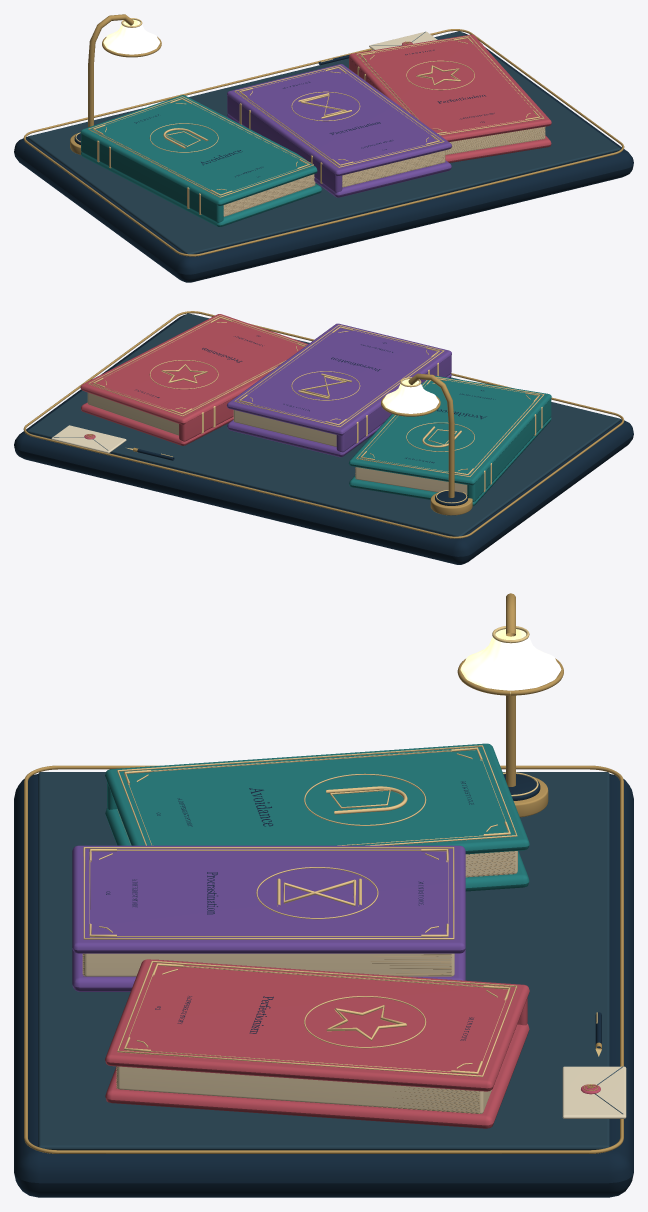
File: story-library-room.glb
3 renders of one model, top to bottom at view 1: azimuth 30°, elevation 25°; view 2: azimuth 150°, elevation 25°; view 3: azimuth 270°, elevation 25°, orthographic. The views are drawn at different scales.
Parts seen in each view (by area): view 1: ReadingSpace_Blue velvet writing surface.003, ReadingSpace_Midnight lacquer.003, avoidance_Library_Teal cloth.011, procrastination_Library_Plum cloth.011, perfectionism_Library_Coral cloth.011, ReadingSpace_Aged champagne brass.003, avoidance_Library_Foil.011, procrastination_Library_Foil.011, perfectionism_Library_Foil.011, procrastination_Library_Edges.004, procrastination_Library_Paper.011, ReadingSpace_Opal reading lamp.003 (+5 smaller); view 2: ReadingSpace_Blue velvet writing surface.003, ReadingSpace_Midnight lacquer.003, procrastination_Library_Plum cloth.011, perfectionism_Library_Coral cloth.011, avoidance_Library_Teal cloth.011, ReadingSpace_Aged champagne brass.003, procrastination_Library_Foil.011, perfectionism_Library_Foil.011, avoidance_Library_Foil.011, procrastination_Library_Paper.011, avoidance_Library_Paper.011, ReadingSpace_Opal reading lamp.003 (+2 smaller); view 3: ReadingSpace_Blue velvet writing surface.003, perfectionism_Library_Coral cloth.011, ReadingSpace_Midnight lacquer.003, procrastination_Library_Plum cloth.011, avoidance_Library_Teal cloth.011, ReadingSpace_Aged champagne brass.003, perfectionism_Library_Paper.011, procrastination_Library_Paper.011, procrastination_Library_Foil.011, perfectionism_Library_Foil.011, avoidance_Library_Foil.011, ReadingSpace_Opal reading lamp.003 (+5 smaller).
Part boxes in pixels (x1,y1,x2,y2): ReadingSpace_Blue velvet writing surface.003: (27, 31, 620, 254); ReadingSpace_Midnight lacquer.003: (14, 32, 633, 282); avoidance_Library_Teal cloth.011: (80, 95, 321, 226); procrastination_Library_Plum cloth.011: (227, 64, 451, 197); perfectionism_Library_Coral cloth.011: (349, 34, 551, 162); ReadingSpace_Aged champagne brass.003: (23, 14, 624, 256); avoidance_Library_Foil.011: (88, 96, 313, 214); procrastination_Library_Foil.011: (234, 65, 444, 183); perfectionism_Library_Foil.011: (356, 35, 544, 135); procrastination_Library_Edges.004: (241, 94, 445, 187); procrastination_Library_Paper.011: (342, 150, 445, 187); ReadingSpace_Opal reading lamp.003: (103, 19, 160, 54); ReadingSpace_Blue velvet writing surface.003: (27, 313, 620, 536); ReadingSpace_Midnight lacquer.003: (14, 314, 633, 564); procrastination_Library_Plum cloth.011: (227, 323, 451, 457); perfectionism_Library_Coral cloth.011: (80, 314, 307, 445); avoidance_Library_Teal cloth.011: (349, 375, 551, 505); ReadingSpace_Aged champagne brass.003: (23, 311, 624, 538); procrastination_Library_Foil.011: (234, 325, 444, 443); perfectionism_Library_Foil.011: (88, 315, 306, 433); avoidance_Library_Foil.011: (356, 377, 544, 491); procrastination_Library_Paper.011: (233, 410, 336, 446); avoidance_Library_Paper.011: (355, 467, 467, 494); ReadingSpace_Opal reading lamp.003: (382, 379, 438, 413); ReadingSpace_Blue velvet writing surface.003: (38, 772, 609, 1150); perfectionism_Library_Coral cloth.011: (105, 959, 529, 1128); ReadingSpace_Midnight lacquer.003: (14, 774, 633, 1197); procrastination_Library_Plum cloth.011: (72, 845, 465, 991); avoidance_Library_Teal cloth.011: (105, 743, 529, 891); ReadingSpace_Aged champagne brass.003: (24, 593, 623, 1153); perfectionism_Library_Paper.011: (117, 1066, 491, 1113); procrastination_Library_Paper.011: (83, 953, 454, 976); procrastination_Library_Foil.011: (83, 847, 454, 939); perfectionism_Library_Foil.011: (117, 961, 517, 1077); avoidance_Library_Foil.011: (117, 745, 517, 845); ReadingSpace_Opal reading lamp.003: (460, 629, 561, 693).
Size of the model in its own units: 4.25 by 1.38 by 2.82.
